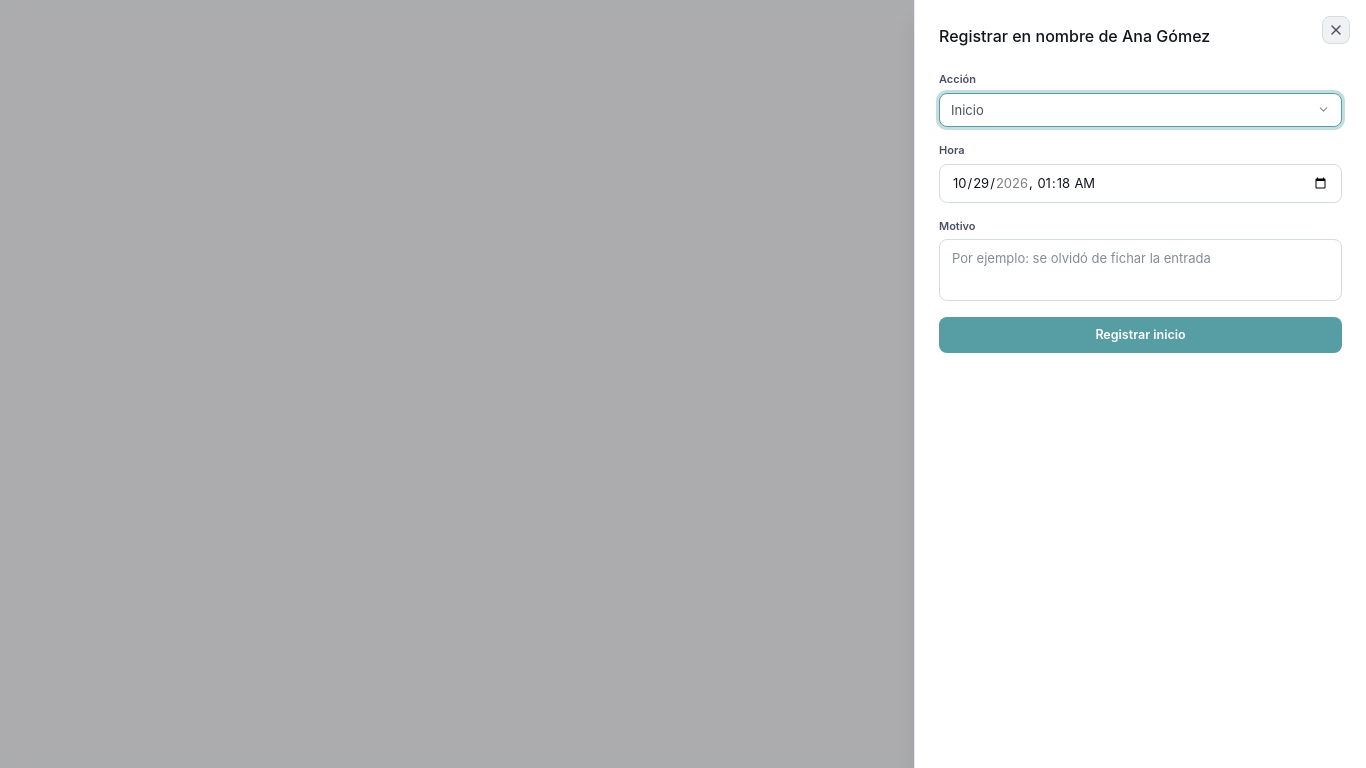
Test: RecordAttendanceSheet › el selector de acción solo ofrece las acciones habilitadas para la asignación
The image size is (1366, 768).
Click the dropdown named "Elegir acción" at point(967, 110), box [939,93,1342,127]
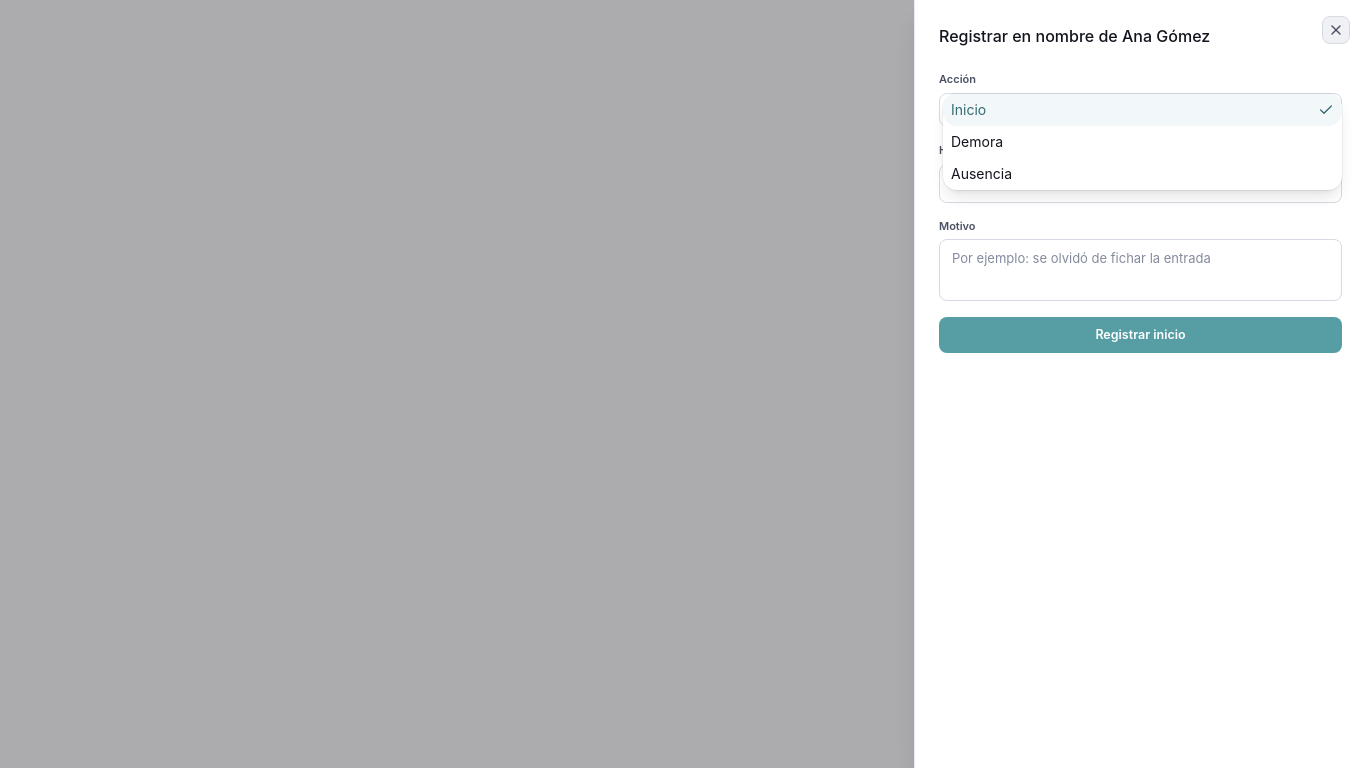
Result: the option "Inicio" is shown at [943,94,1342,126]
Result: the option "Demora" is shown at [951,133,1003,150]
Result: the option "Ausencia" is shown at [951,165,1012,182]
